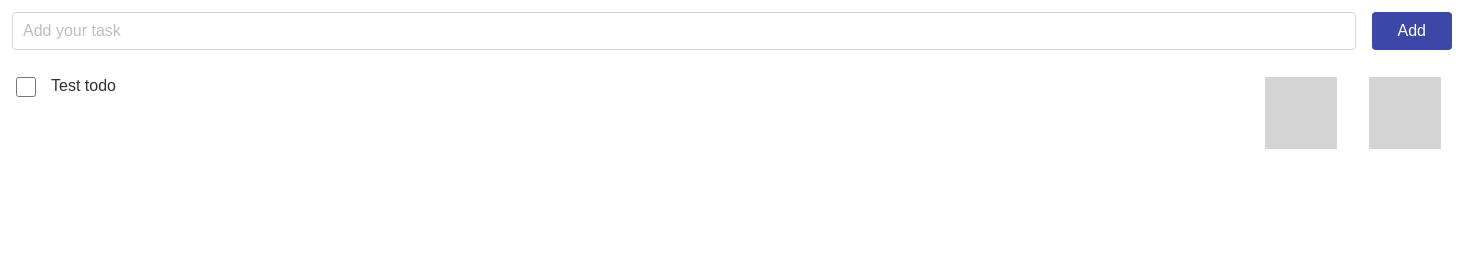
<TodoListContainer /> › Handles todo create event
Type "New todo" into the field.
click(684, 31); type("New todo")  # box x1=12 y1=12 x2=1356 y2=50
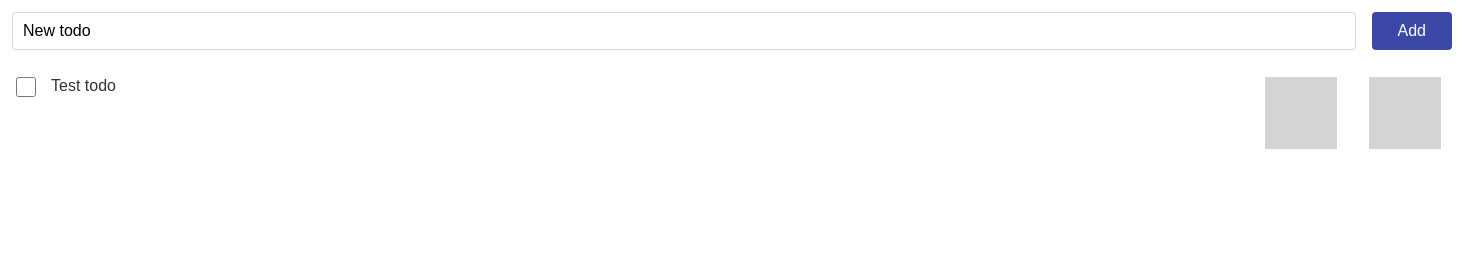
Submit the form named "textbox", box x1=12 y1=12 x2=1452 y2=50
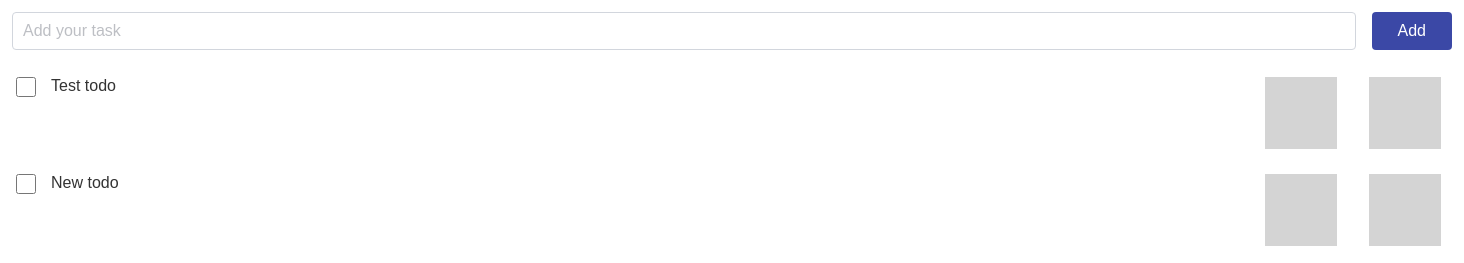
Check: the text "New todo" is shown, box x1=12 y1=174 x2=119 y2=191
